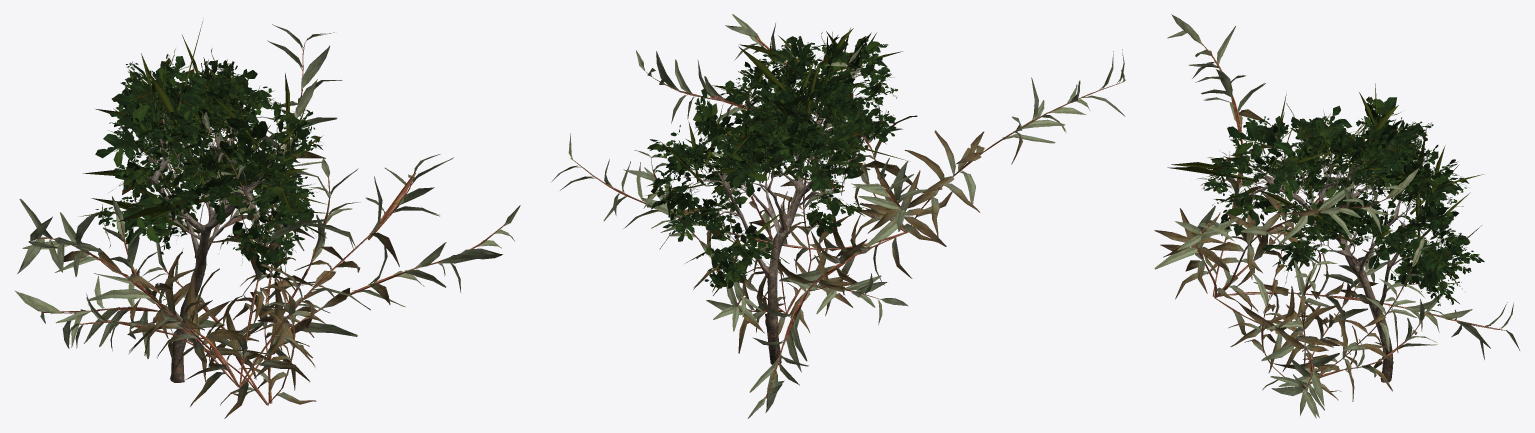
File: vegetation.glb
The picture shows the model from 3 angles, left to right: view 1: azimuth 30°, elevation 25°; view 2: azimuth 150°, elevation 25°; view 3: azimuth 270°, elevation 25°; orthographic projection. The views are drawn at different scales.
Visible parts, largest first — view 1: tree_far, tree_near, shrub0_near, tree_mid, shrub0_far, shrub1_near, shrub1_far; view 2: tree_far, tree_near, tree_mid, shrub0_far, shrub0_near, shrub1_far, shrub1_near; view 3: tree_far, tree_near, tree_mid, shrub0_far, shrub0_near, shrub1_far, shrub1_near.
Part boxes in pixels (bbox=[...]): tree_far: bbox=[83, 21, 328, 382]; tree_near: bbox=[92, 54, 322, 382]; shrub0_near: bbox=[14, 24, 520, 418]; tree_mid: bbox=[79, 53, 321, 382]; shrub0_far: bbox=[15, 24, 518, 407]; shrub1_near: bbox=[67, 103, 358, 405]; shrub1_far: bbox=[67, 102, 359, 405]; tree_far: bbox=[645, 28, 906, 363]; tree_near: bbox=[647, 36, 897, 364]; tree_mid: bbox=[650, 31, 897, 365]; shrub0_far: bbox=[553, 14, 1124, 417]; shrub0_near: bbox=[552, 14, 1125, 418]; shrub1_far: bbox=[625, 46, 903, 352]; shrub1_near: bbox=[623, 45, 907, 353]; tree_far: bbox=[1167, 92, 1484, 381]; tree_near: bbox=[1201, 96, 1473, 382]; tree_mid: bbox=[1204, 83, 1484, 382]; shrub0_far: bbox=[1154, 15, 1518, 416]; shrub0_near: bbox=[1154, 14, 1519, 418]; shrub1_far: bbox=[1229, 111, 1446, 401]; shrub1_near: bbox=[1228, 103, 1445, 400].
Size of the model in its own units: 1.87 by 1.1 by 1.26.
4 materials, 4 textured.
